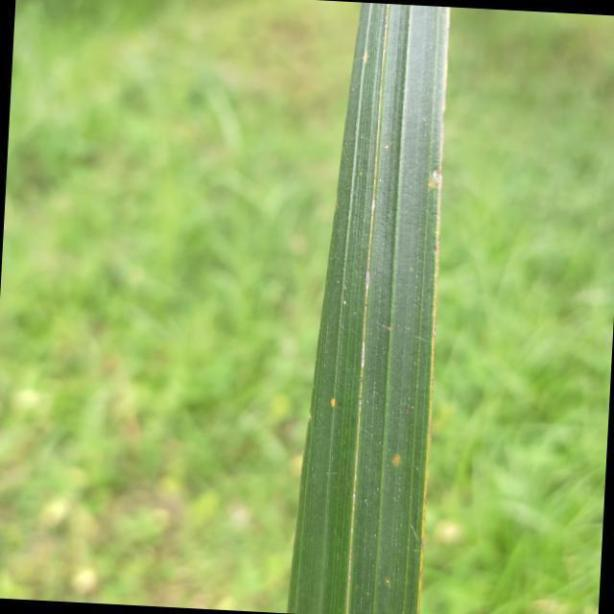Boron: (283, 0, 453, 614)
